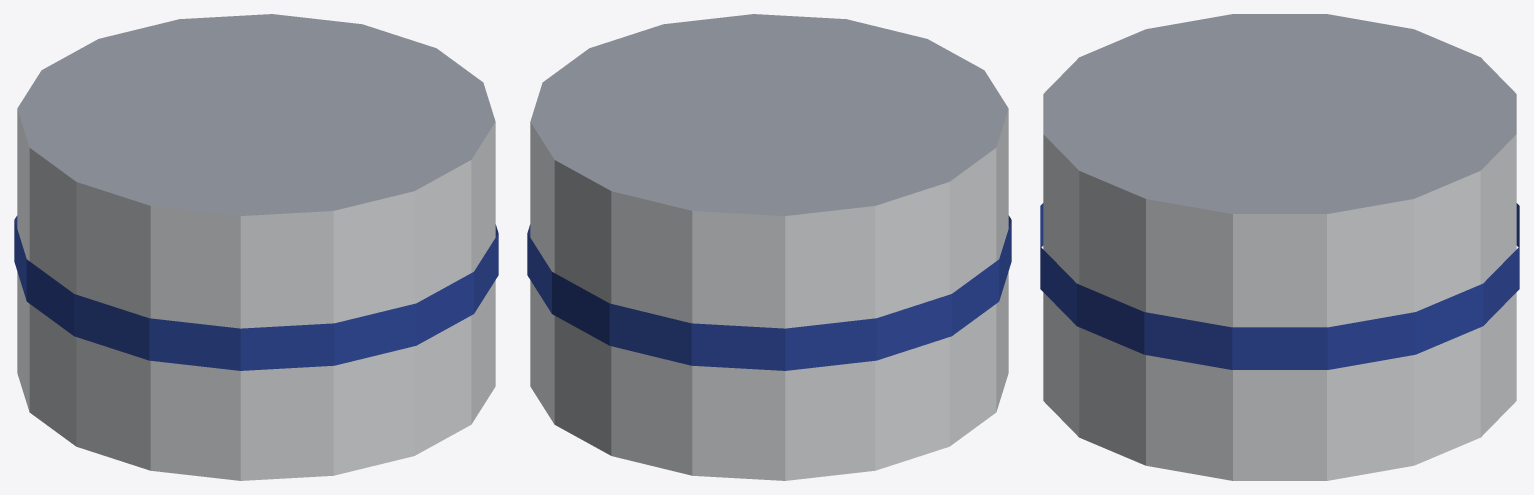
The model's file is ship_hull_ring.glb.
3 renders of one model, left to right at view 1: azimuth 30°, elevation 25°; view 2: azimuth 150°, elevation 25°; view 3: azimuth 270°, elevation 25°, orthographic.
Parts seen in each view (by area): view 1: ship_hull_ring; view 2: ship_hull_ring; view 3: ship_hull_ring.
Part boxes in pixels (x1,y1,x2,y2): ship_hull_ring: (14, 14, 498, 480); ship_hull_ring: (527, 14, 1011, 480); ship_hull_ring: (1040, 14, 1519, 480).
Size of the model in its own units: 1.63 by 1 by 1.63.
